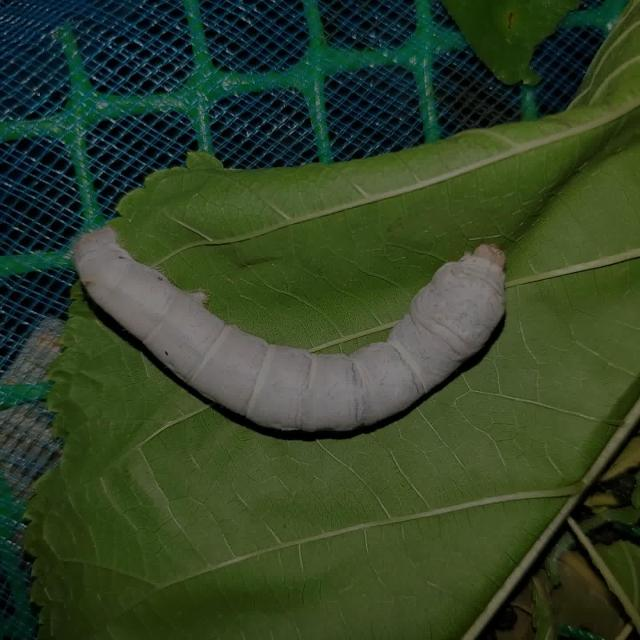Healthy: (63, 209, 519, 445)
